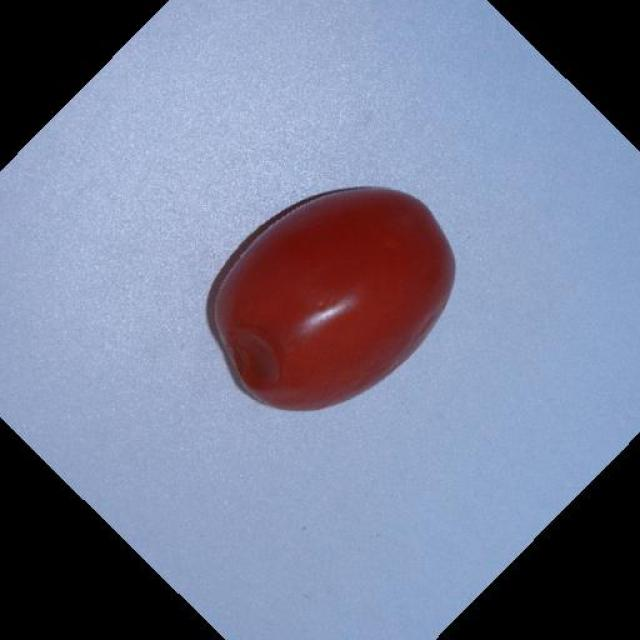Stale_tomato: (207, 192, 458, 379)
